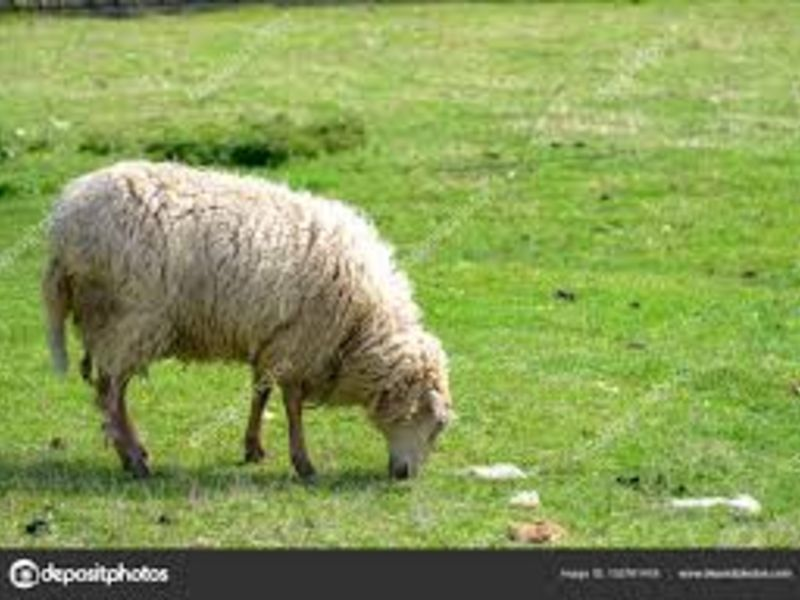sheep: (42, 158, 464, 490)
